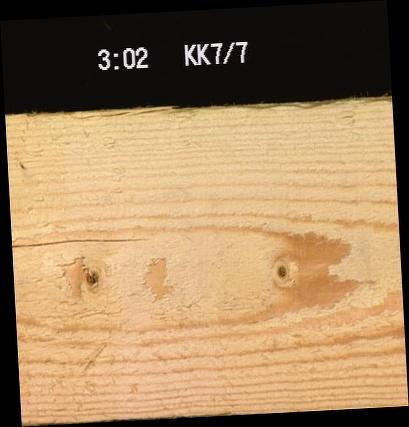small_knot: (274, 263, 286, 279)
sound_knot: (81, 263, 99, 294)
split: (11, 235, 149, 245)
